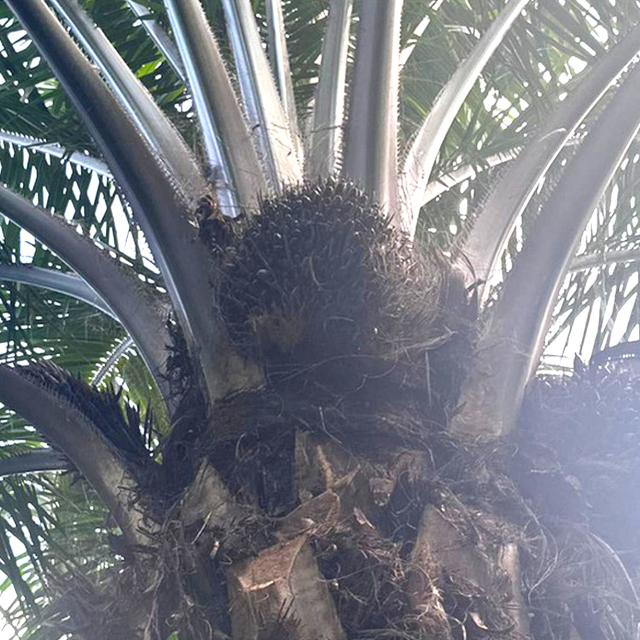unripe: (200, 166, 457, 397)
